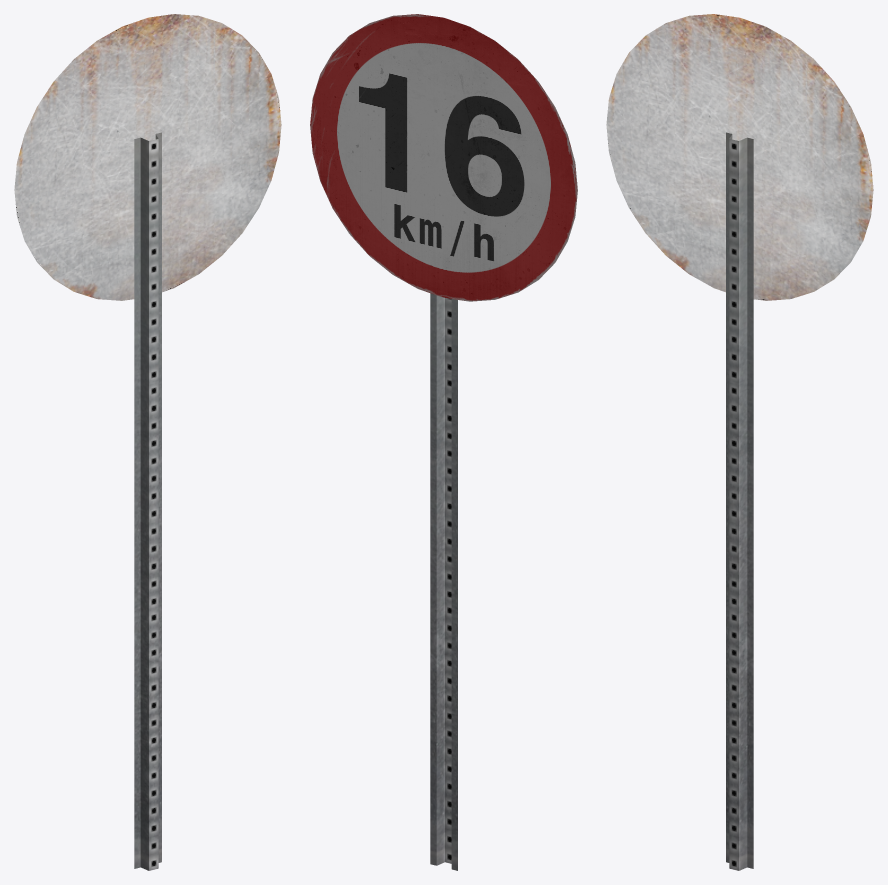
The model's file is speed_limit_sign.dae.
3 renders of one model, left to right at view 1: azimuth 30°, elevation 25°; view 2: azimuth 150°, elevation 25°; view 3: azimuth 330°, elevation 25°, orthographic.
Visible parts, largest first — view 1: Box001; view 2: Box001; view 3: Box001.
Boxes of the visible parts, bbox=[...] form: Box001: bbox=[14, 14, 281, 870]; Box001: bbox=[310, 14, 577, 870]; Box001: bbox=[606, 14, 873, 870].
Bounding box in the file's own units: 3.06 × 0.1165 × 9.29.
